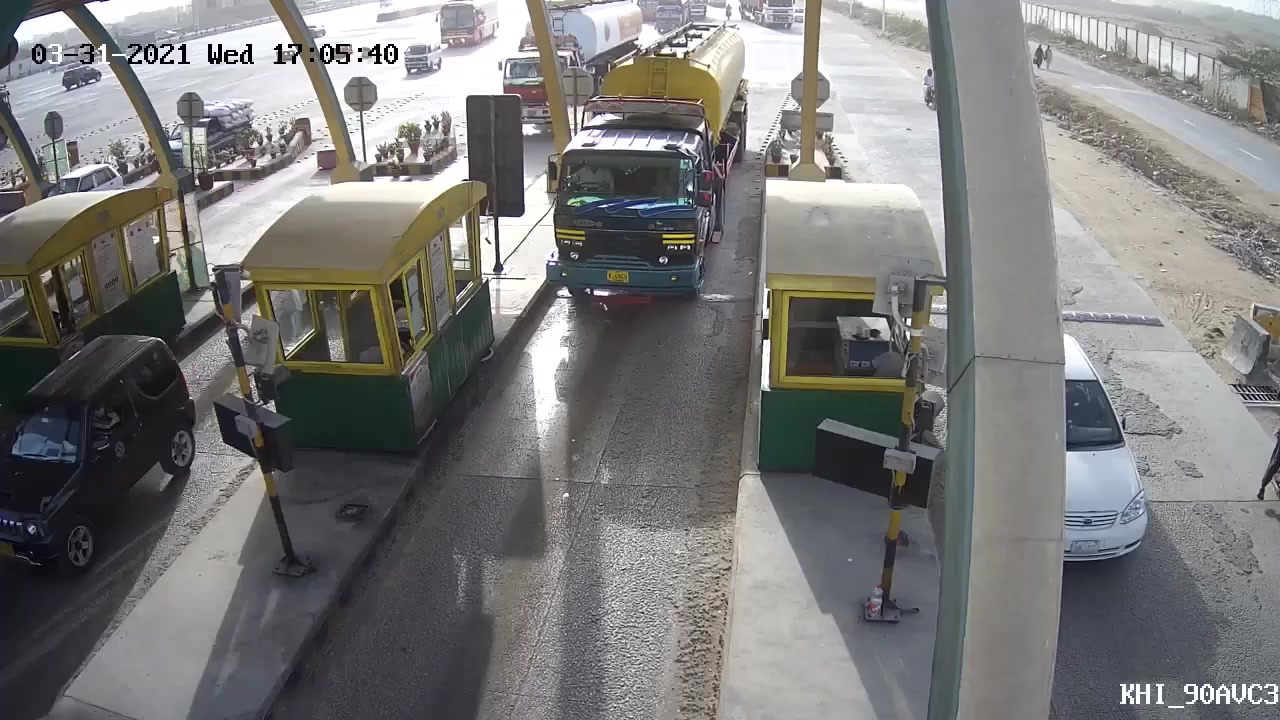F6: (544, 26, 754, 303)
